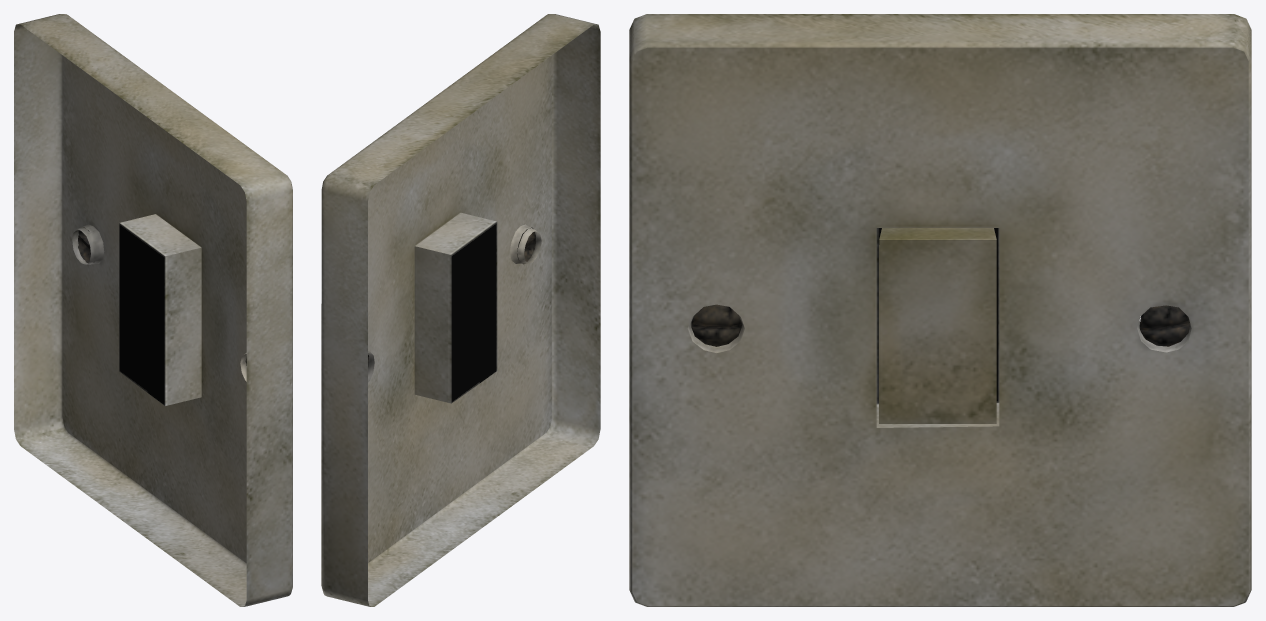
Rendered from OneSwitch_1.fbx.
The picture shows the model from 3 angles, left to right: view 1: azimuth 30°, elevation 25°; view 2: azimuth 150°, elevation 25°; view 3: azimuth 270°, elevation 25°; orthographic projection. The views are drawn at different scales.
Visible parts, largest first — view 1: One Switch_1; view 2: One Switch_1; view 3: One Switch_1, One Switch_1_1.
Part boxes in pixels (x1,y1,x2,y2): One Switch_1: (14, 14, 292, 606); One Switch_1: (321, 14, 600, 606); One Switch_1: (629, 14, 1251, 606); One Switch_1_1: (879, 228, 996, 423).
Size of the model in its own units: 1.27 by 8.5 by 8.5.
